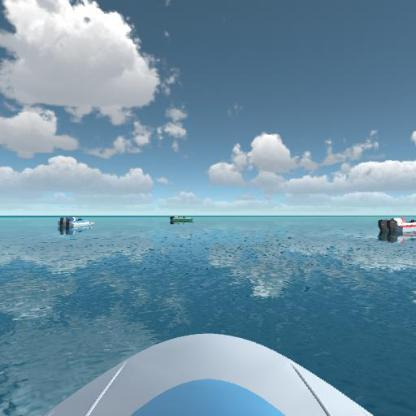usv0: (169, 211, 195, 227)
usv1: (56, 211, 100, 235)
usv3: (372, 214, 415, 244)
